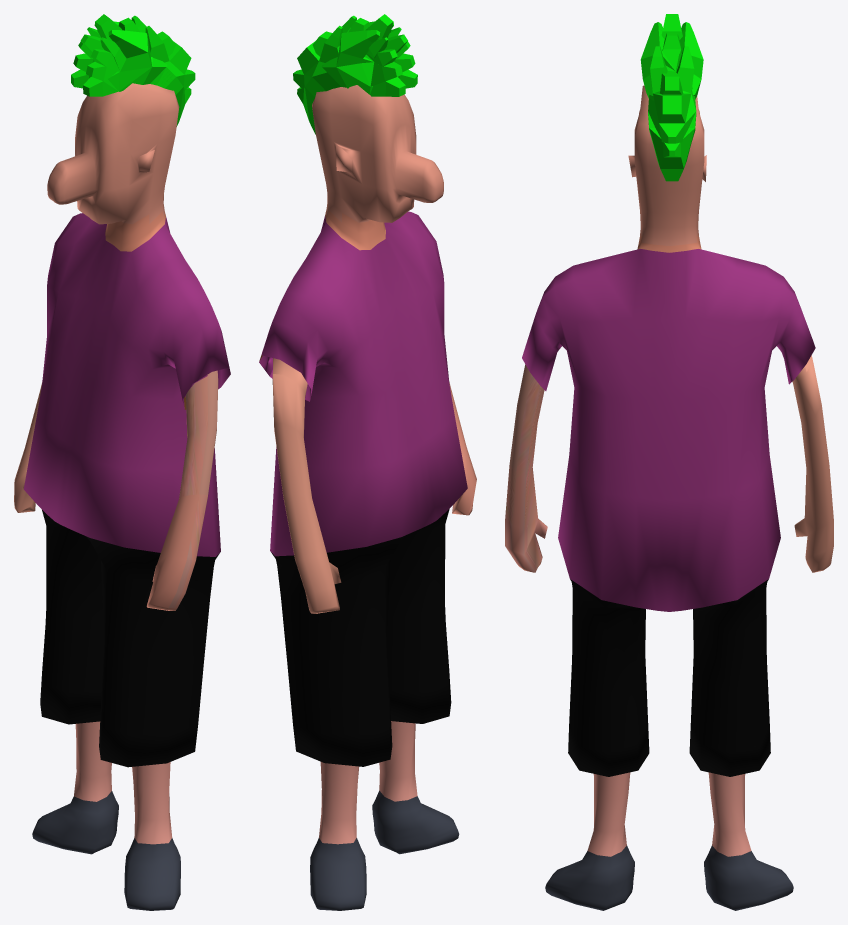
Rendered from Personaje _tarea_.fbx.
The picture shows the model from 3 angles, left to right: view 1: azimuth 30°, elevation 25°; view 2: azimuth 150°, elevation 25°; view 3: azimuth 270°, elevation 25°; orthographic projection. The views are drawn at different scales.
Parts seen in each view (by area): view 1: Personaje, Pelo; view 2: Personaje, Pelo; view 3: Personaje, Pelo.
Part boxes in pixels (<box>): Personaje: <box>14,83,230,910</box>; Pelo: <box>71,14,195,126</box>; Personaje: <box>259,85,476,910</box>; Pelo: <box>293,14,417,134</box>; Personaje: <box>505,85,833,910</box>; Pelo: <box>640,14,703,181</box>.
Size of the model in its own units: 28.29 by 160 by 54.33.
Materials: 3 (2 with a texture image).
